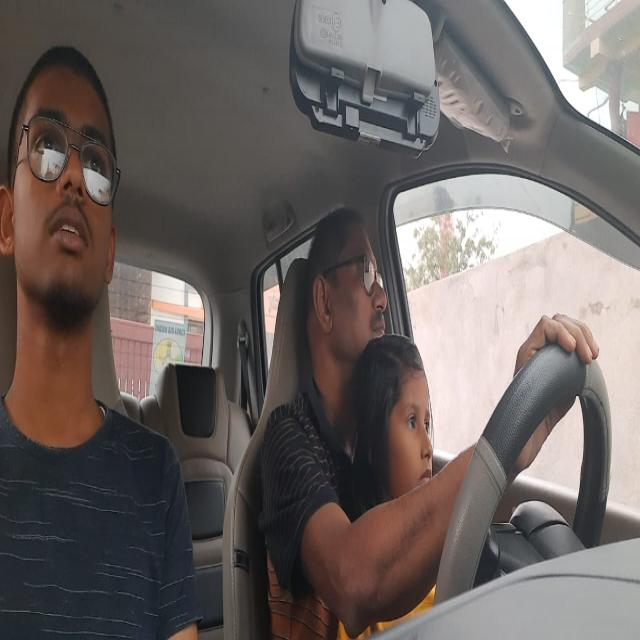LeftRight: (310, 205, 387, 339)
child: (376, 352, 441, 482)
person: (0, 37, 122, 346)
